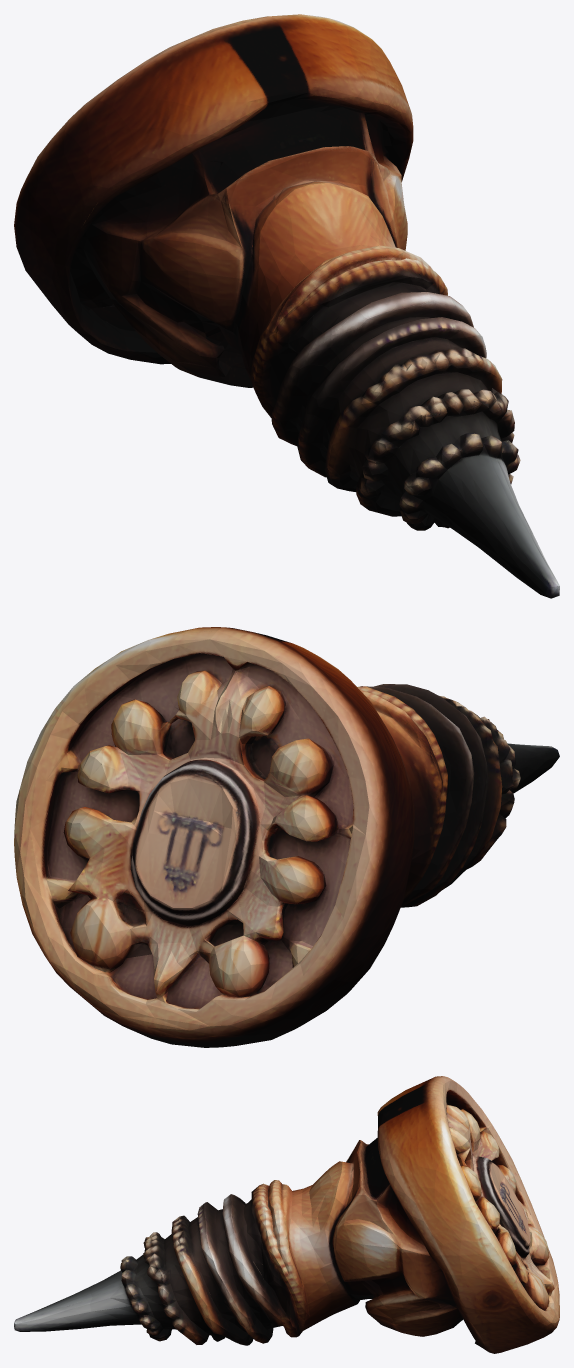
Rendered from wooden-wine-bottle-stopper-3d.jpeg.glb.
3 views of the same model, one above another, from view 1: azimuth 30°, elevation 25°; view 2: azimuth 150°, elevation 25°; view 3: azimuth 270°, elevation 25° (orthographic). The views are drawn at different scales.
Parts seen in each view (by area): view 1: world; view 2: world; view 3: world.
Part boxes in pixels (x1=…): world: x1=14, y1=14, x2=559, y2=598; world: x1=14, y1=627, x2=559, y2=1047; world: x1=14, y1=1076, x2=559, y2=1353.
Size of the model in its own units: 0.5228 by 0.5093 by 1.
1 material, 1 textured.
